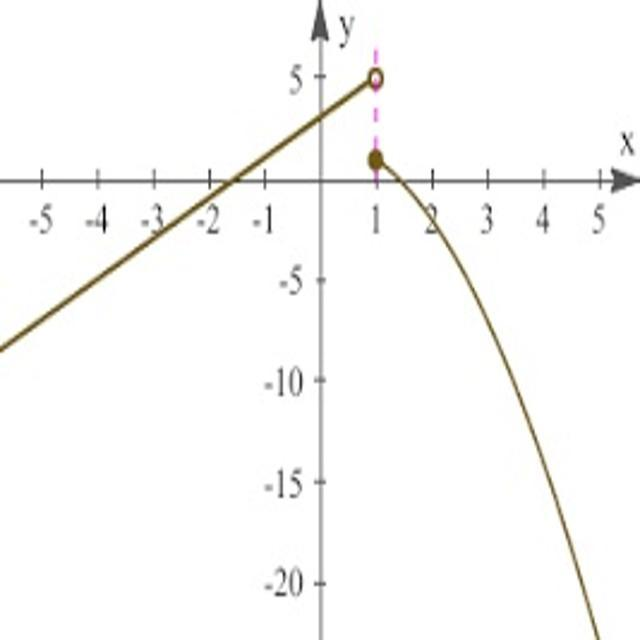axis: (1, 165, 640, 190), (310, 0, 329, 640)
line: (369, 152, 604, 639)
